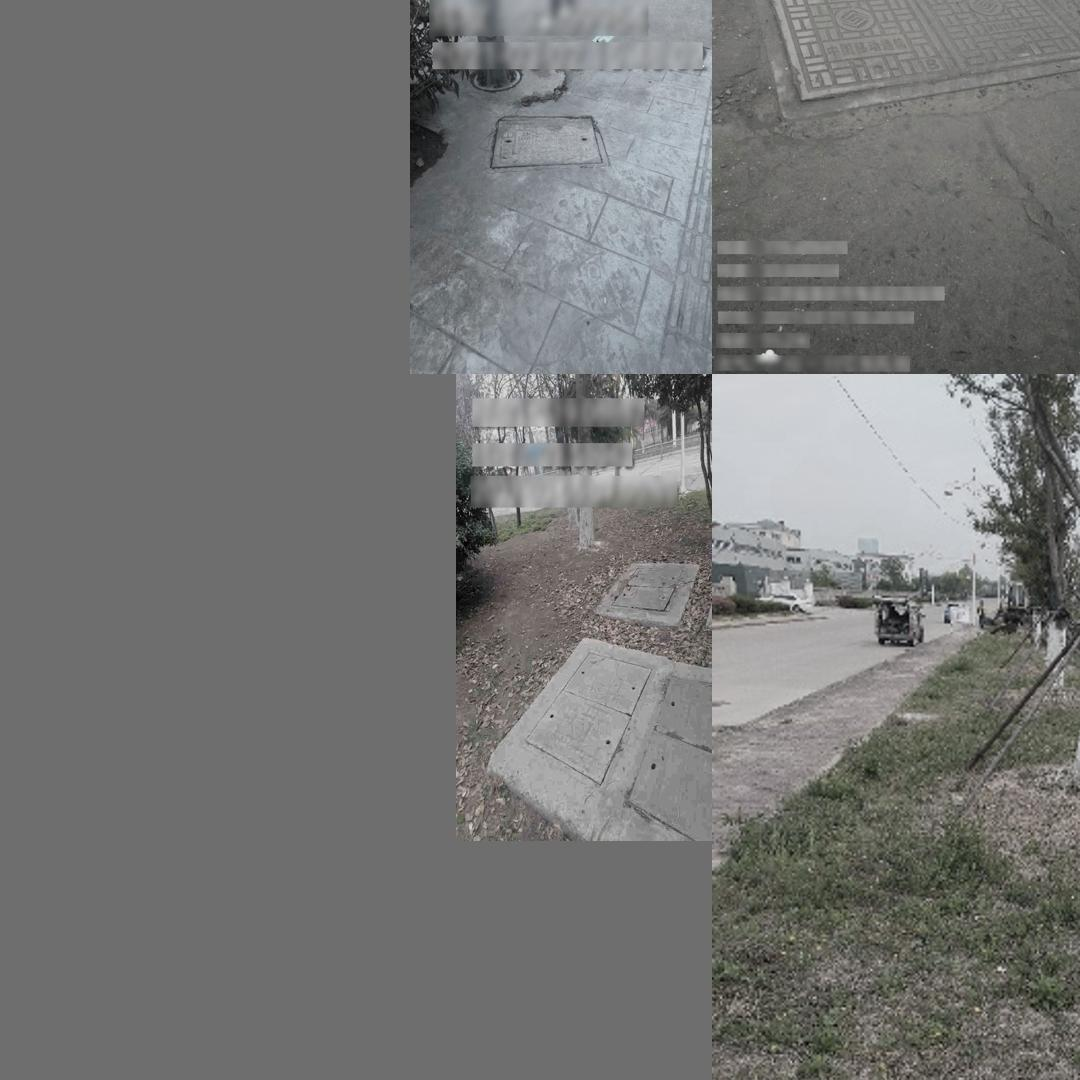good: (747, 0, 1080, 118), (520, 648, 656, 792), (619, 671, 712, 841), (485, 114, 611, 172), (608, 565, 685, 615), (1049, 1069, 1080, 1080)
